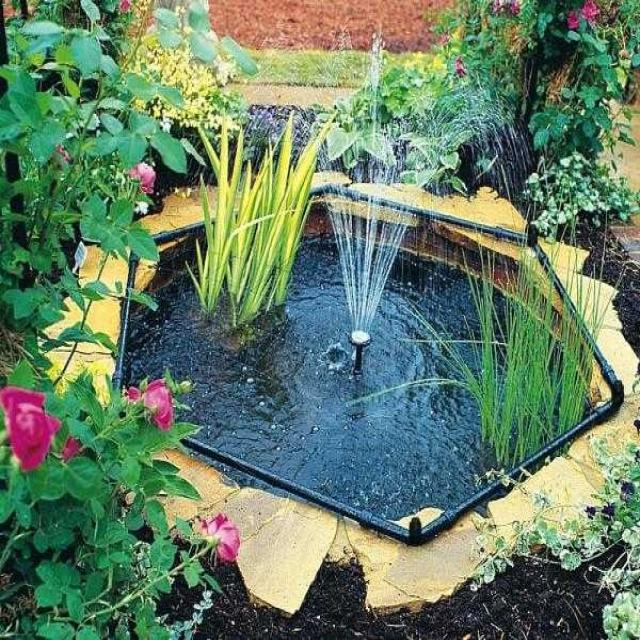Ponds: (37, 166, 640, 616)
